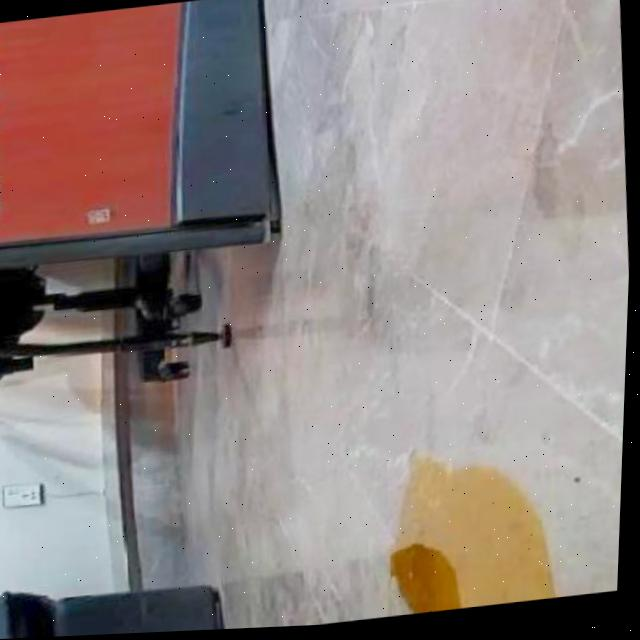spillage: (395, 454, 562, 618)
